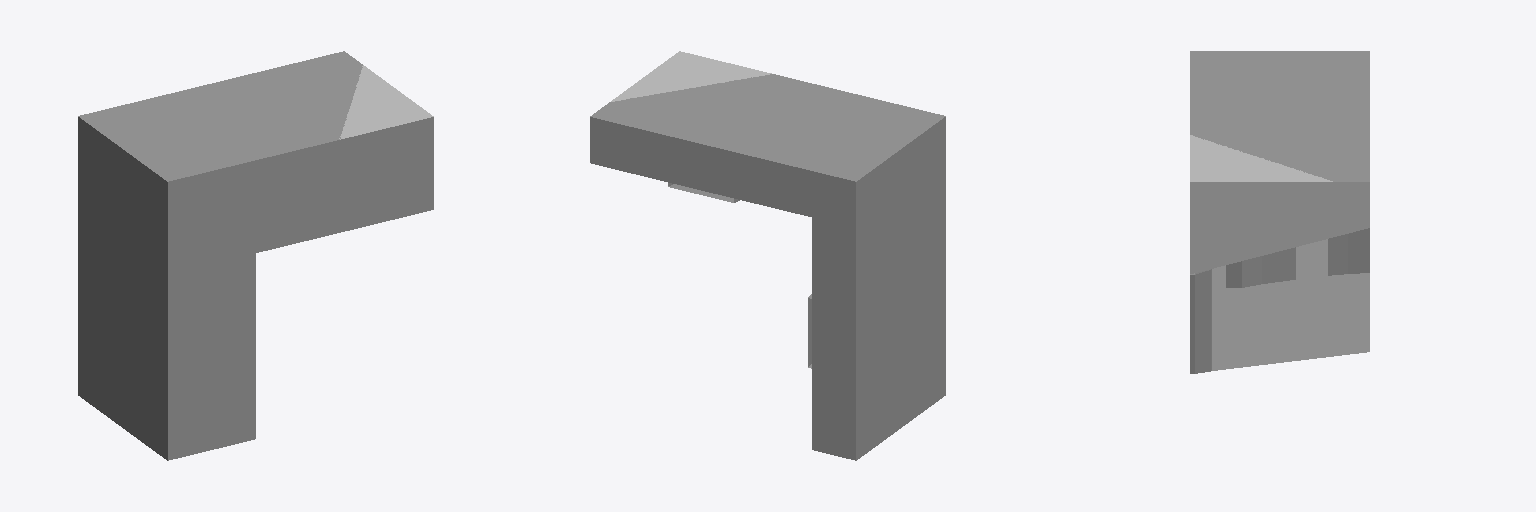
File: aucman_roof_trim_corner2.obj
3 renders of one model, left to right at view 1: azimuth 30°, elevation 25°; view 2: azimuth 150°, elevation 25°; view 3: azimuth 270°, elevation 25°, orthographic.
Parts seen in each view (by area): view 1: g_g, c_c1; view 2: g_g, c_c1, c_c2; view 3: g_g, c_c1, c_c2.
Boxes of the visible parts, x1=… form: g_g: x1=78, y1=51, x2=433, y2=460; c_c1: x1=339, y1=65, x2=433, y2=139; g_g: x1=590, y1=74, x2=945, y2=460; c_c1: x1=590, y1=51, x2=855, y2=216; c_c2: x1=812, y1=183, x2=855, y2=460; g_g: x1=1190, y1=51, x2=1369, y2=373; c_c1: x1=1190, y1=135, x2=1369, y2=273; c_c2: x1=1212, y1=239, x2=1369, y2=370.
Bounding box in the file's own units: 120 × 120 × 70.